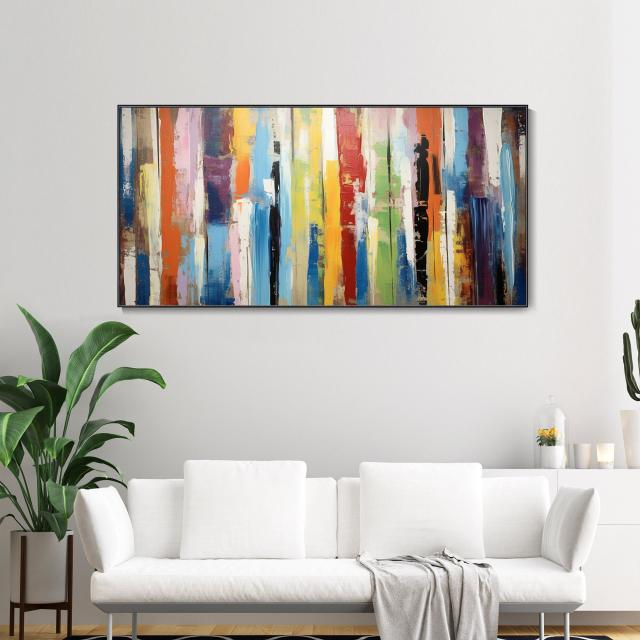painting: (119, 104, 531, 308)
